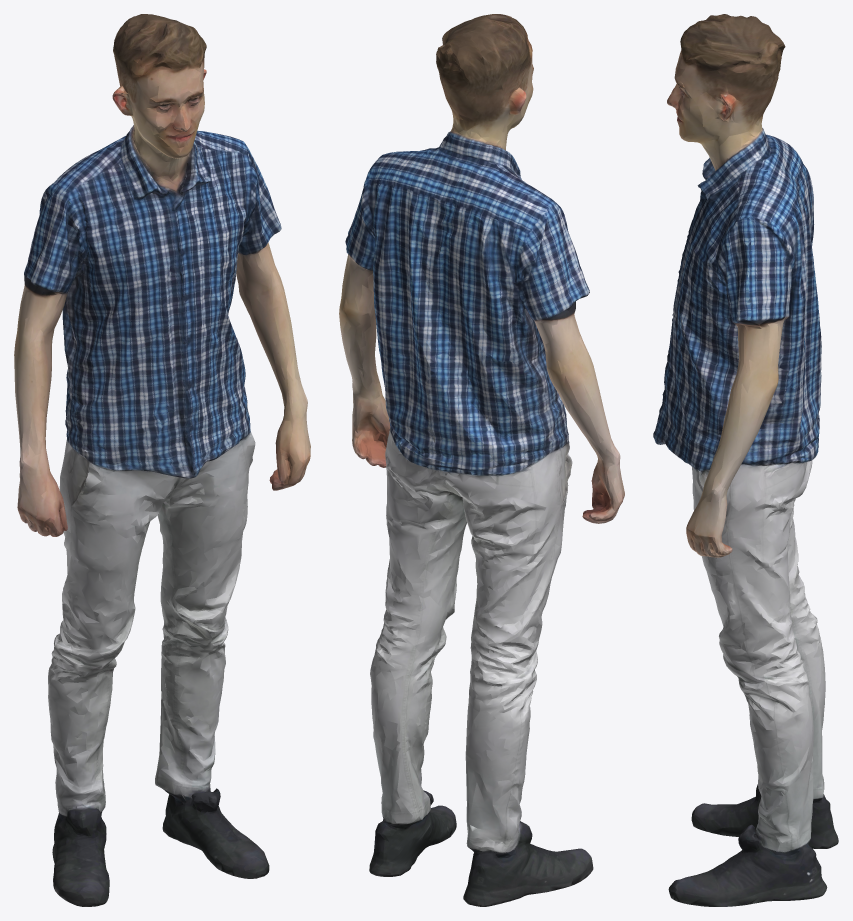
The picture shows the model from 3 angles, left to right: view 1: azimuth 30°, elevation 25°; view 2: azimuth 150°, elevation 25°; view 3: azimuth 270°, elevation 25°; orthographic projection.
Visible parts, largest first — view 1: low_poly_7; view 2: low_poly_7; view 3: low_poly_7.
Part boxes in pixels (x1=…): low_poly_7: x1=14, y1=14, x2=310, y2=906; low_poly_7: x1=339, y1=14, x2=624, y2=906; low_poly_7: x1=653, y1=14, x2=838, y2=906.
Size of the model in its own units: 0.6571 by 1.89 by 0.378.
1 material, 1 textured.
